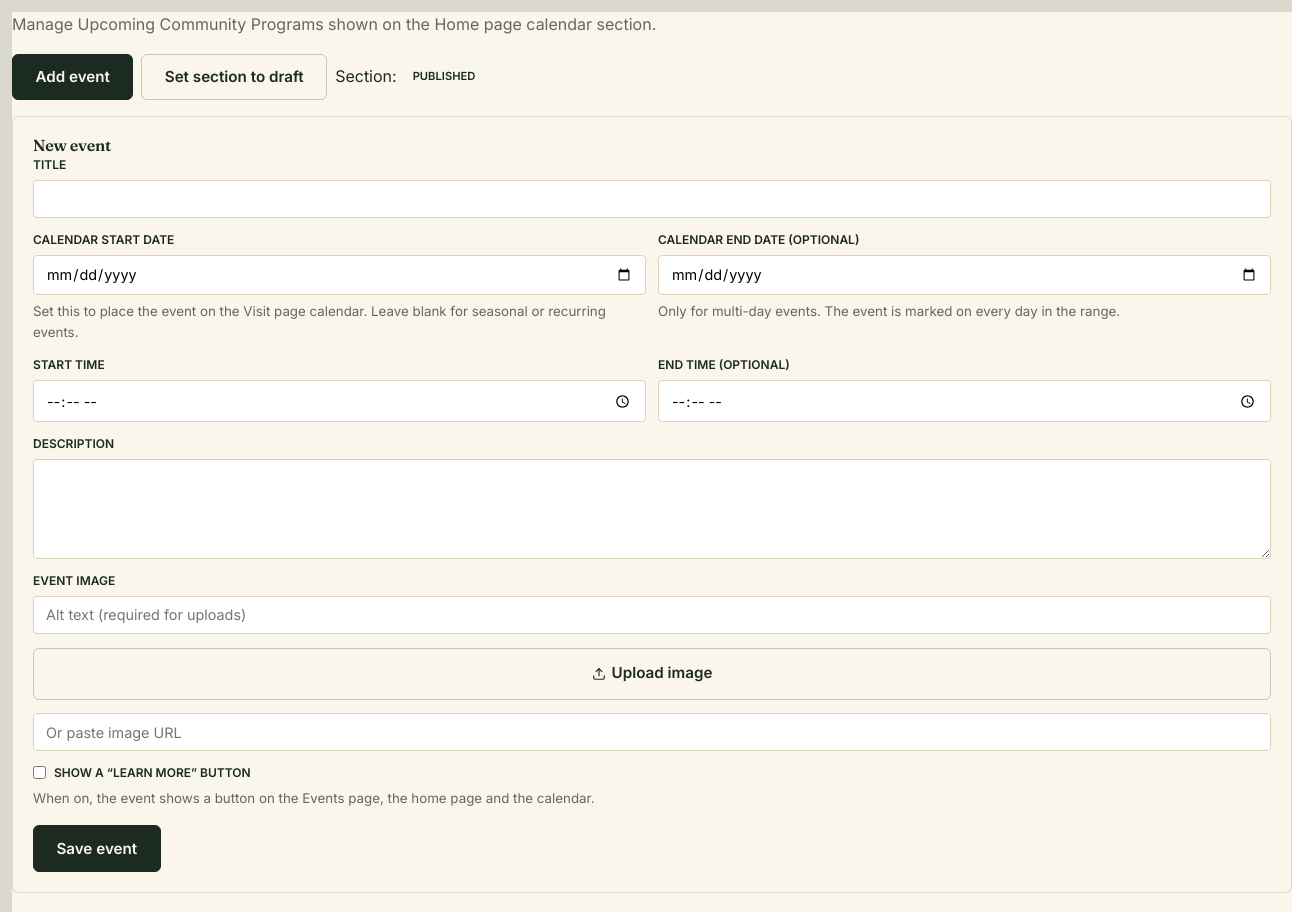
Test case: CommunityProgramsPanel — Learn more › hides the target fields until the button is turned on
Expected: the field labelled "Links to" is not shown
Click the checkbox labelled "Show a “Learn more” button" at (40, 773), box top-left (33, 766), bottom-right (46, 780)
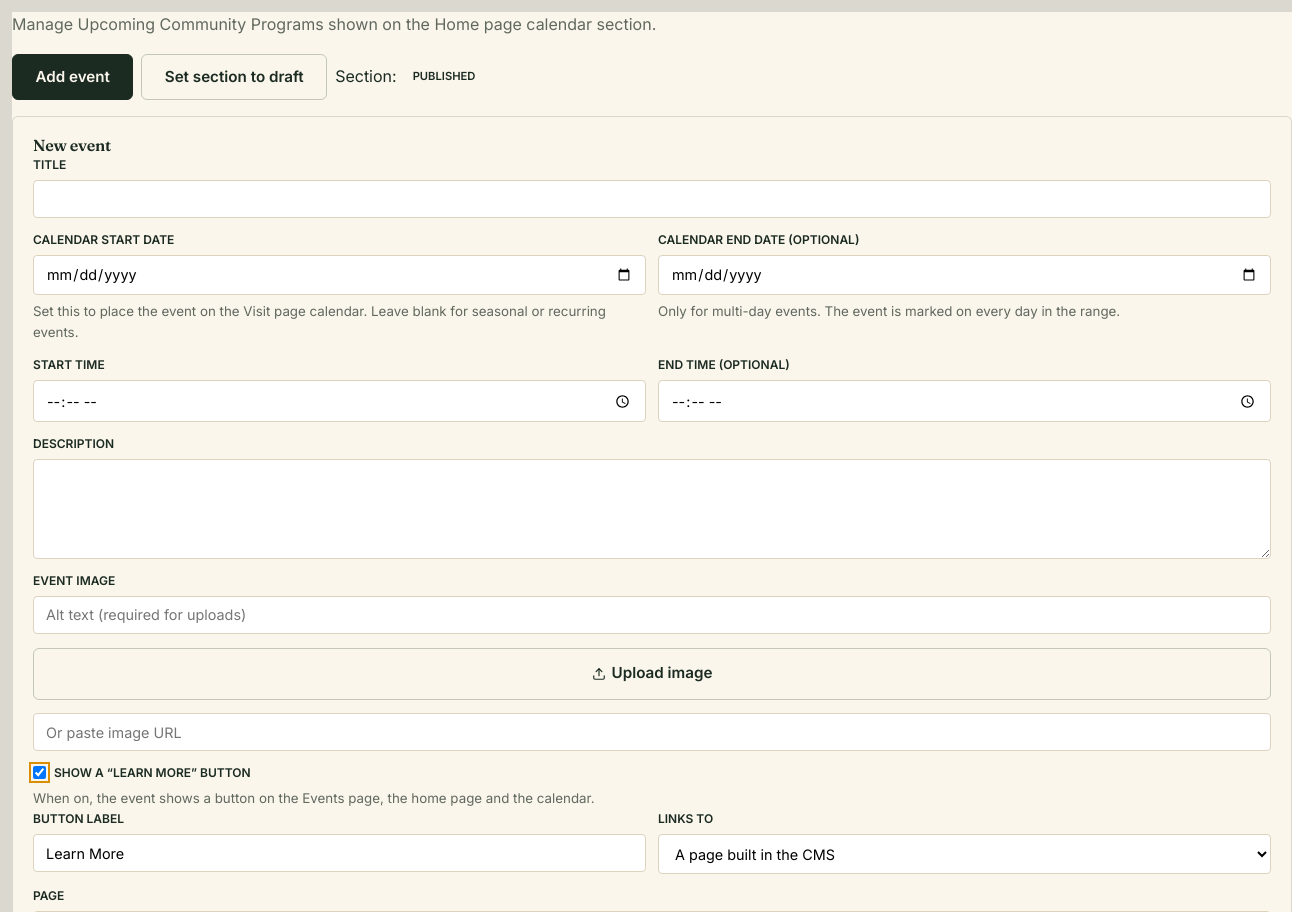
Result: the dropdown labelled "Links to" is shown at top-left (658, 834), bottom-right (1271, 874)
Result: the field labelled "Button label" holds "Learn More" at top-left (33, 834), bottom-right (646, 872)
